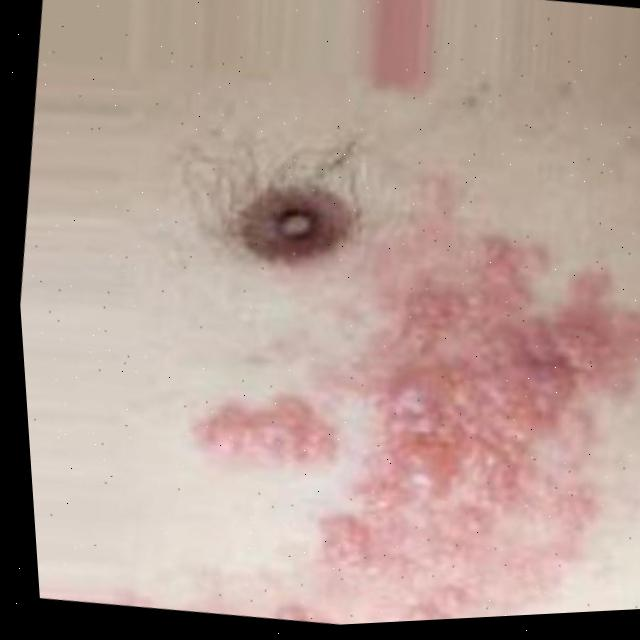Shingles: (148, 186, 640, 633)
